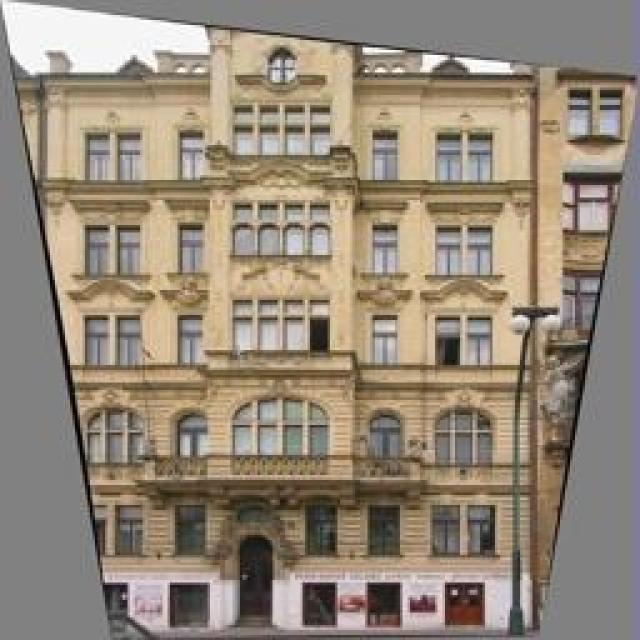building: (40, 2, 538, 640)
